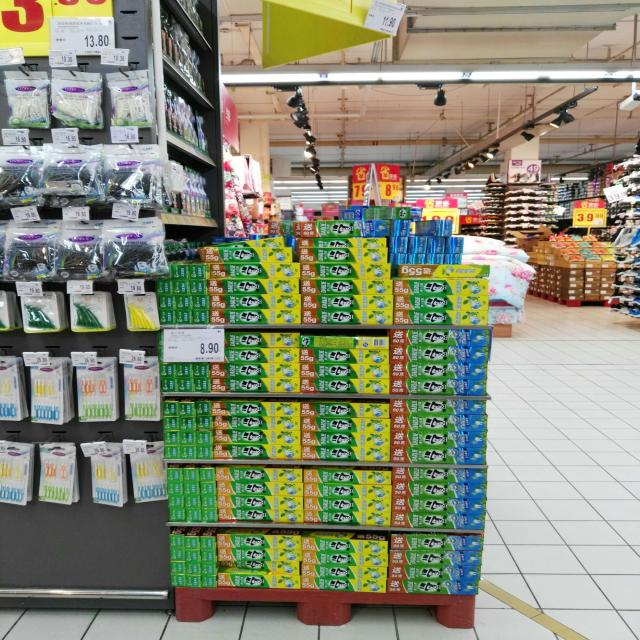unorganised: (205, 244, 293, 264), (301, 333, 389, 351), (216, 560, 301, 575), (340, 207, 412, 221), (224, 234, 288, 247), (416, 218, 455, 237)
